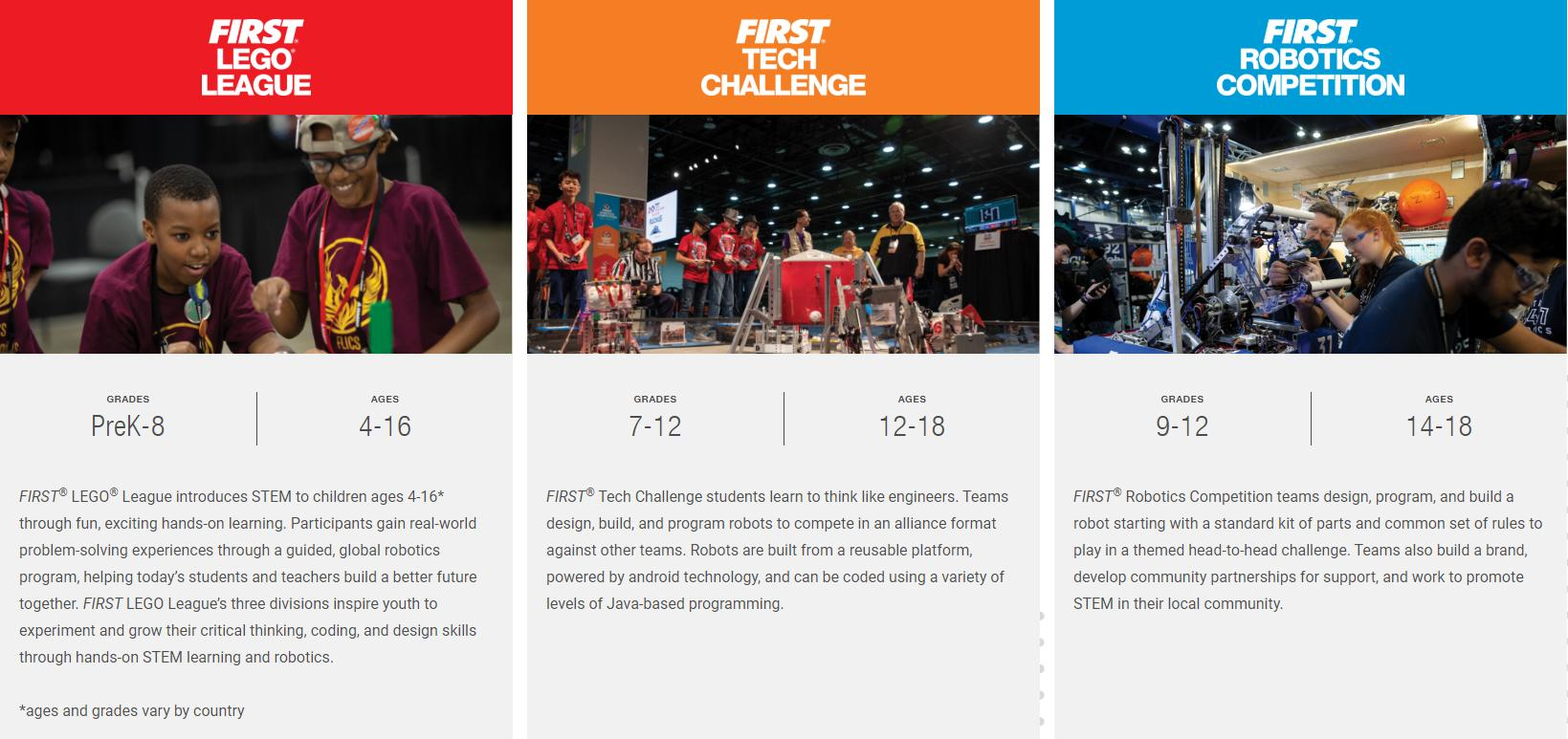robot: (1054, 115, 1326, 355)
